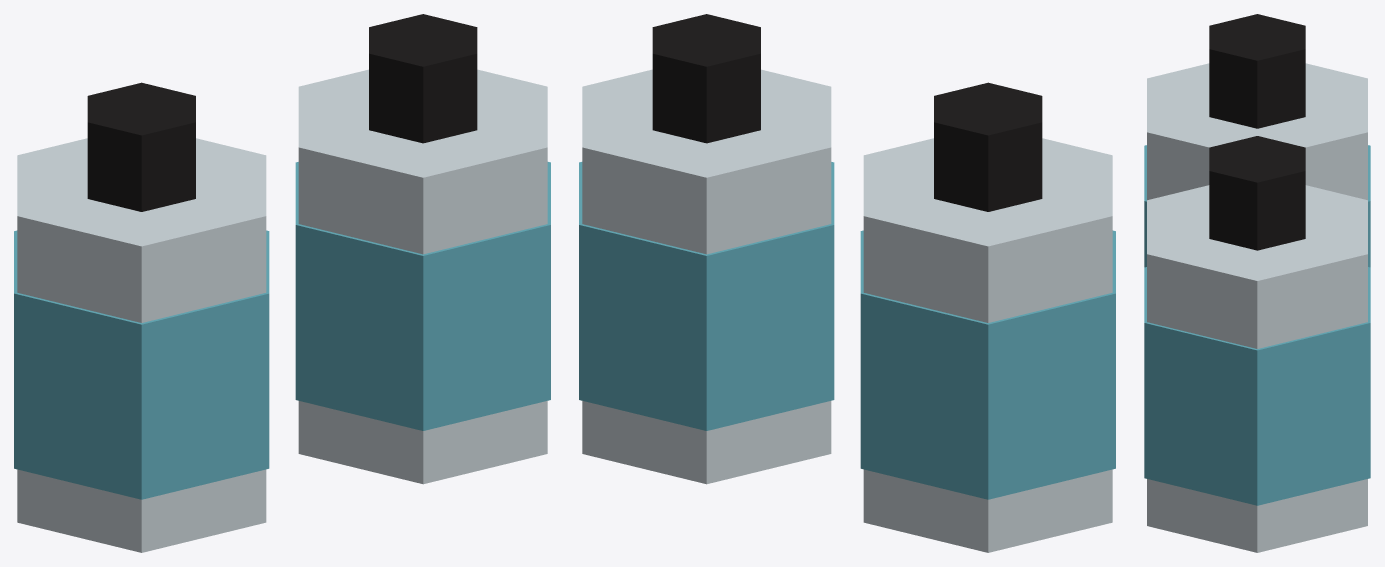
The model's file is item_rm_neutroamine_b.obj.
3 views of the same model, side by side, from view 1: azimuth 30°, elevation 25°; view 2: azimuth 150°, elevation 25°; view 3: azimuth 270°, elevation 25° (orthographic). The views are drawn at different scales.
Size of the model in its own units: 0.734 by 0.5005 by 0.3024.
